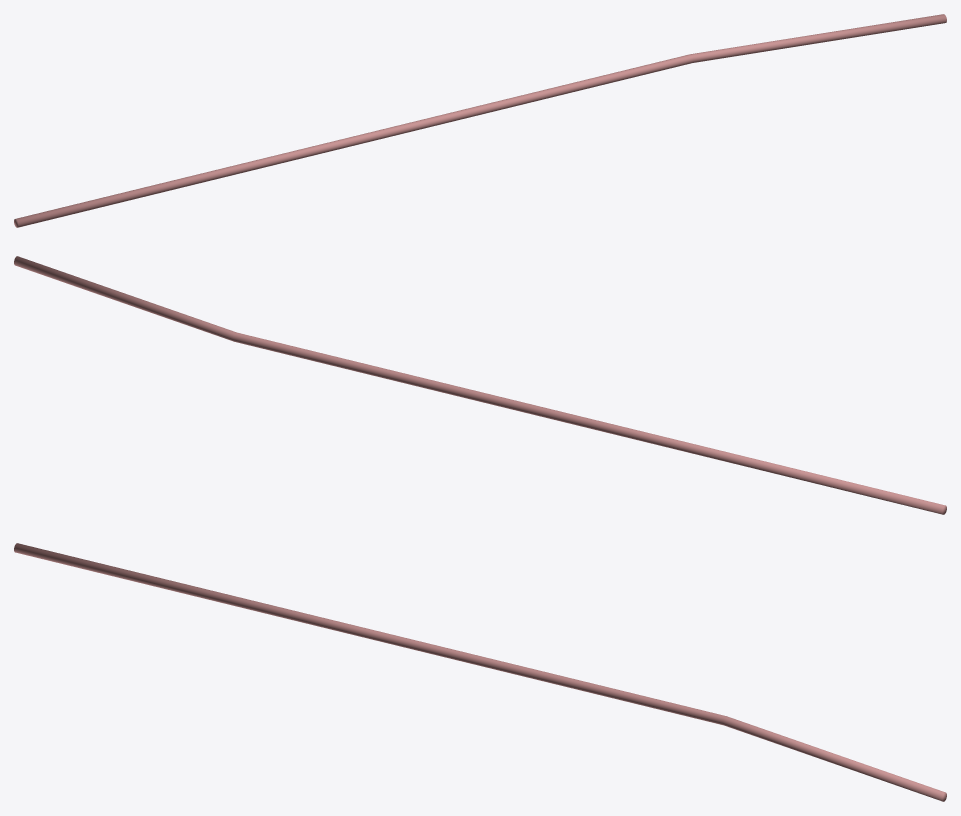
File: Pipe_L_2.fbx
3 renders of one model, top to bottom at view 1: azimuth 30°, elevation 25°; view 2: azimuth 150°, elevation 25°; view 3: azimuth 330°, elevation 25°, orthographic. The views are drawn at different scales.
Parts seen in each view (by area): view 1: Pipe_L_2; view 2: Pipe_L_2; view 3: Pipe_L_2.
Part boxes in pixels (<box>): Pipe_L_2: <box>14,14,946,227</box>; Pipe_L_2: <box>14,256,946,514</box>; Pipe_L_2: <box>14,543,946,801</box>.
Size of the model in its own units: 2276 by 20.13 by 117.
